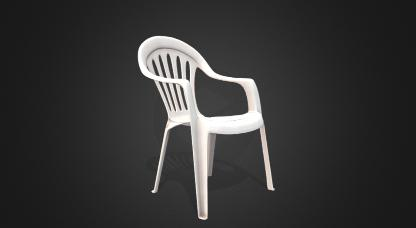chair: (135, 31, 277, 228)
